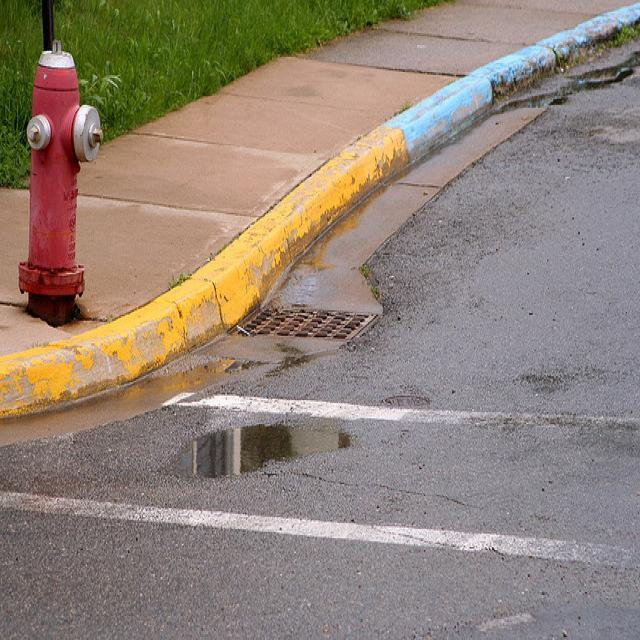fire_hydrant: (17, 39, 103, 298)
